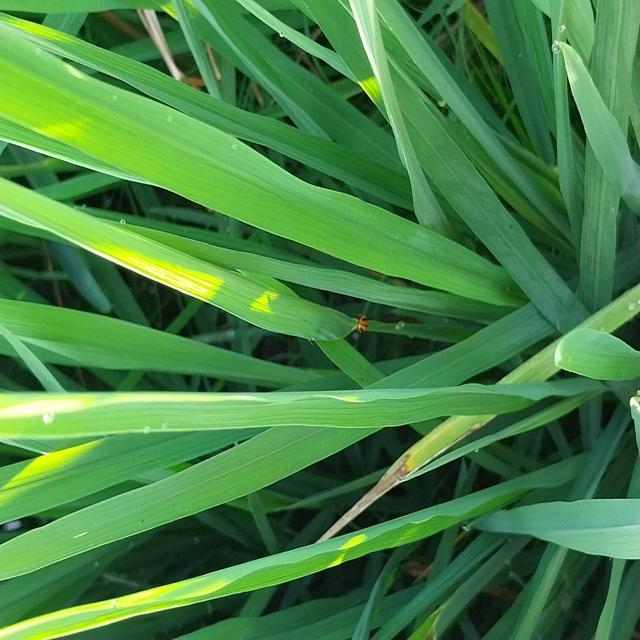Brown spot: (296, 416, 469, 553)
